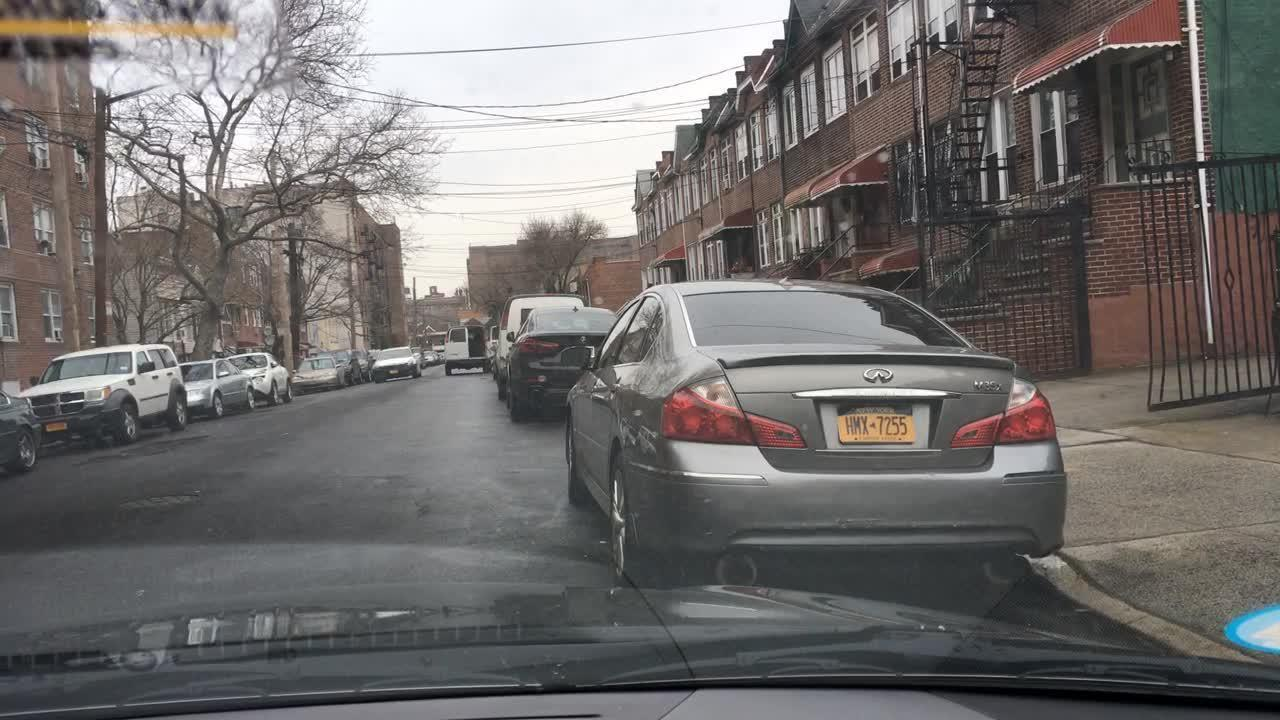Infiniti: (855, 360, 900, 390)
